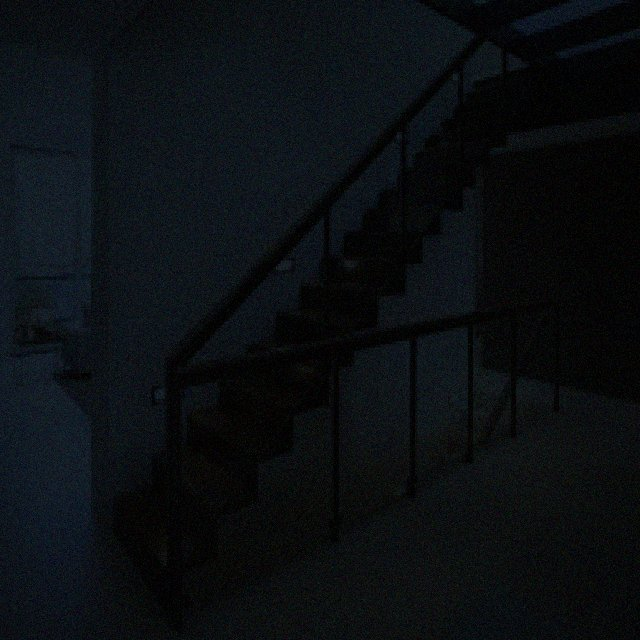stair: (114, 36, 535, 629)
